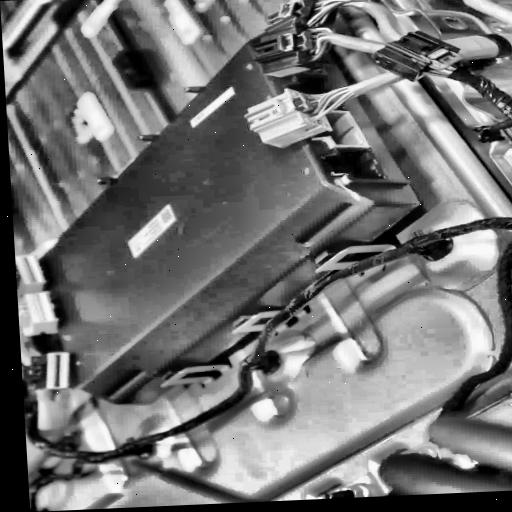bms_unit: (30, 18, 421, 406)
high_volt_cable: (240, 0, 512, 151)
low_volt_cable: (27, 29, 512, 496)
